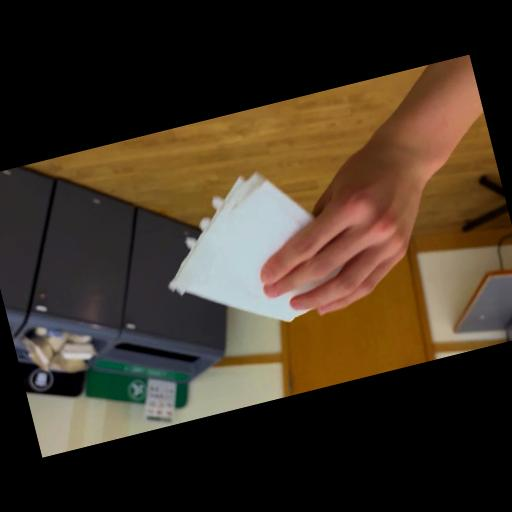napkin: (148, 152, 374, 348)
